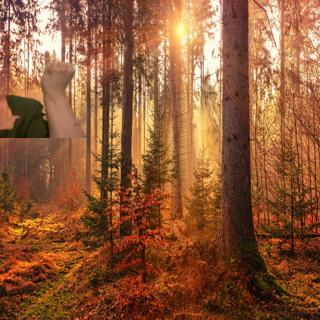FINE: (37, 50, 79, 99)
